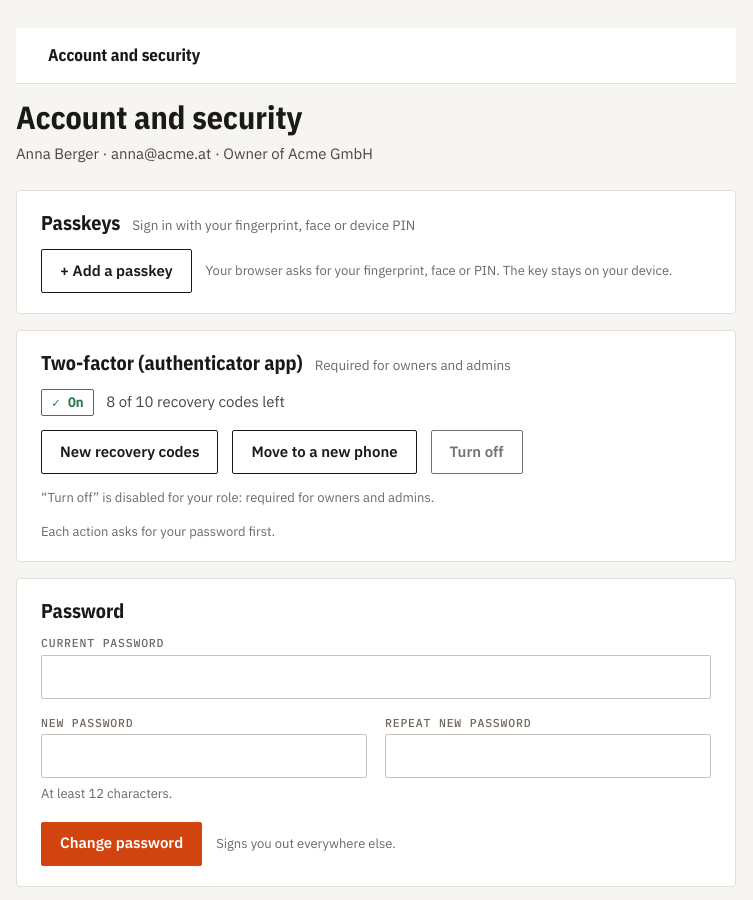
Test: AccountSecurityPage (W4) › refuses different new passwords without asking the server
Step 1. Type "correct horse battery" into the password field labelled "Current password" → (376, 677), box x1=41 y1=655 x2=711 y2=699
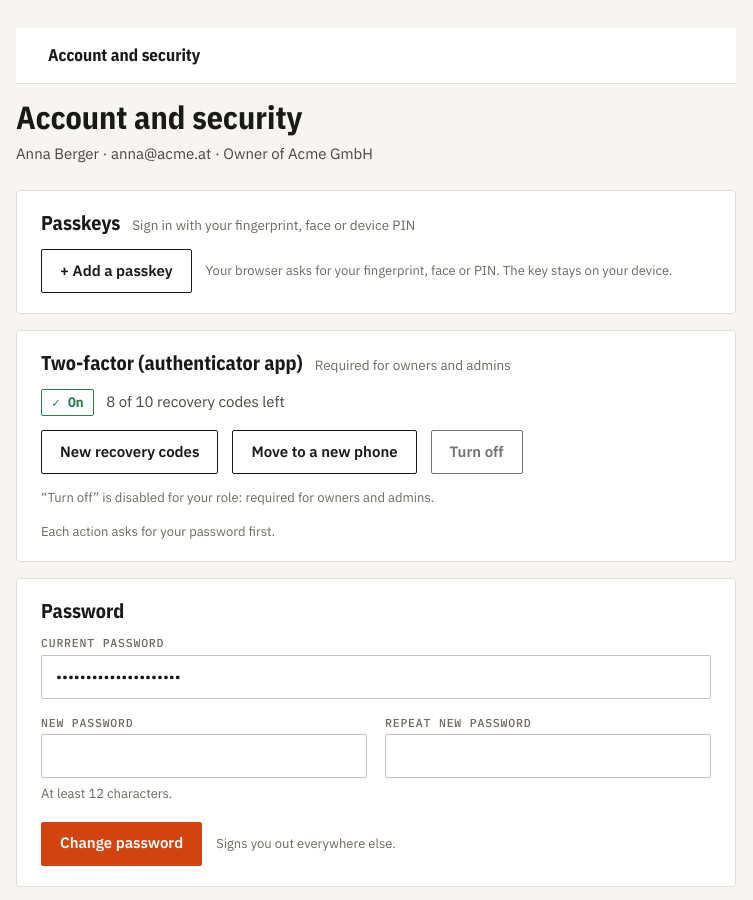
Step 2. Type "a brand new passphrase" into the password field labelled "New password" → (204, 756), box x1=41 y1=734 x2=367 y2=778
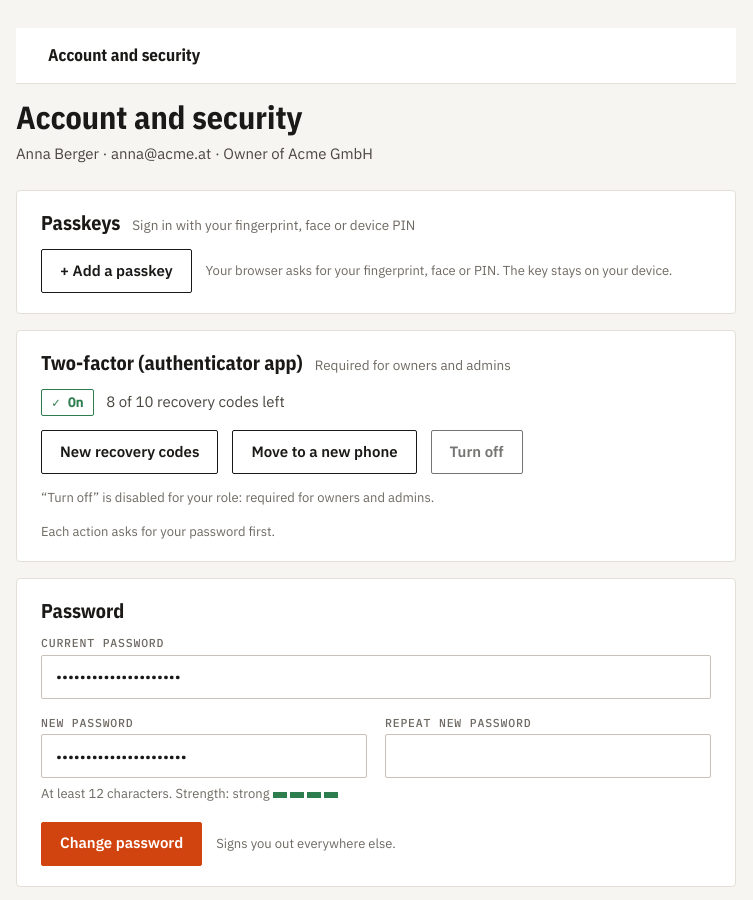
Step 3. Type "a brand new passphrose" into the password field labelled "Repeat new password" → (548, 756), box x1=385 y1=734 x2=711 y2=778
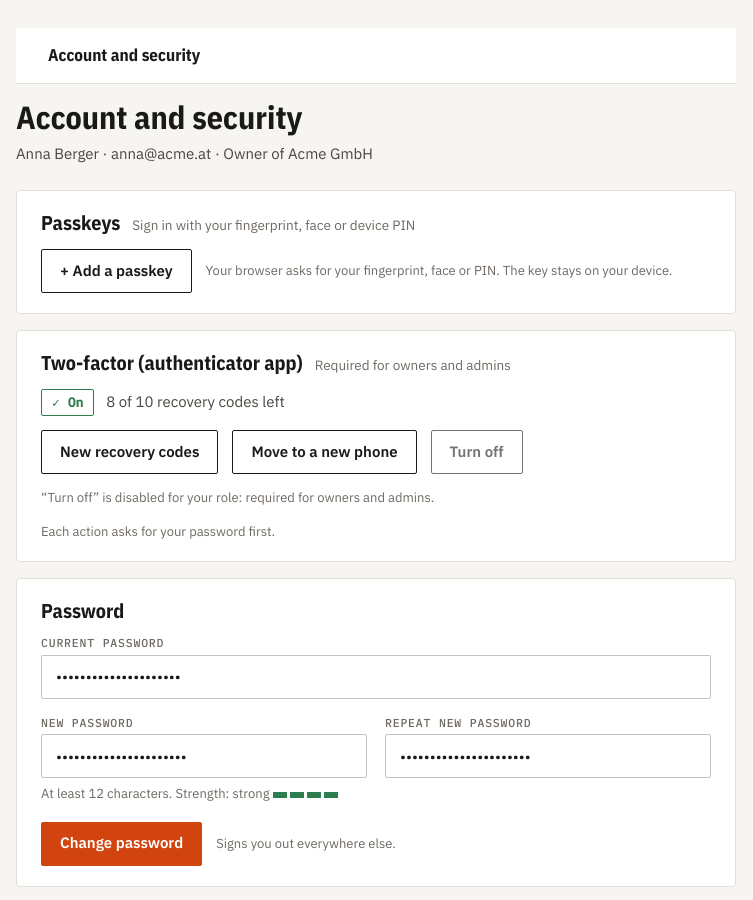
Step 4. Click the button "Change password" → (122, 844), box x1=41 y1=822 x2=202 y2=866
(page scrolled)
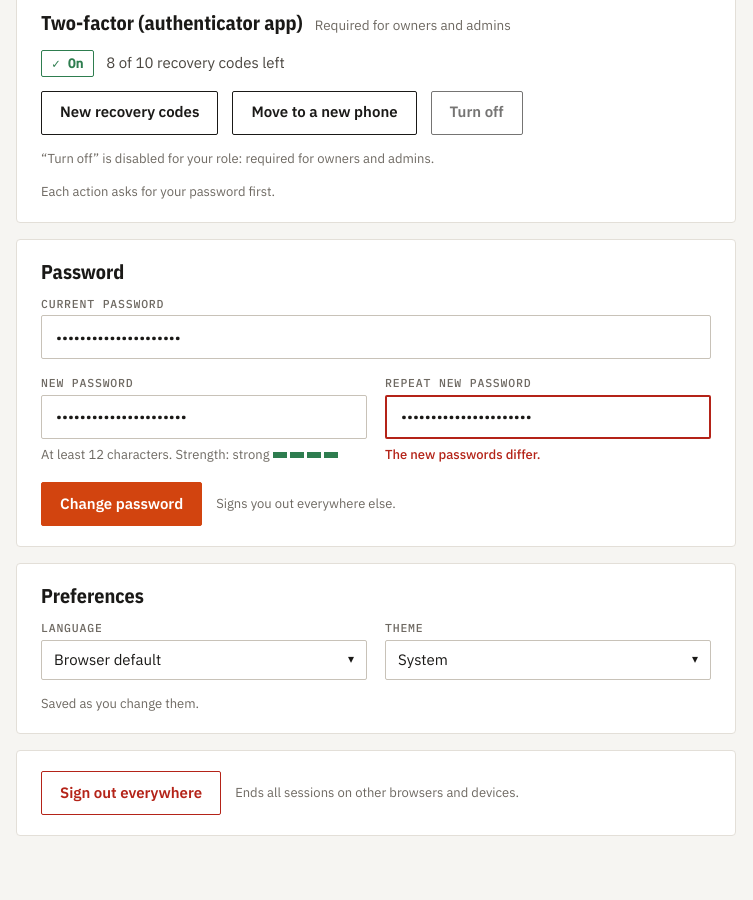
Now the text "The new passwords differ." is shown, box x1=385 y1=446 x2=540 y2=463
